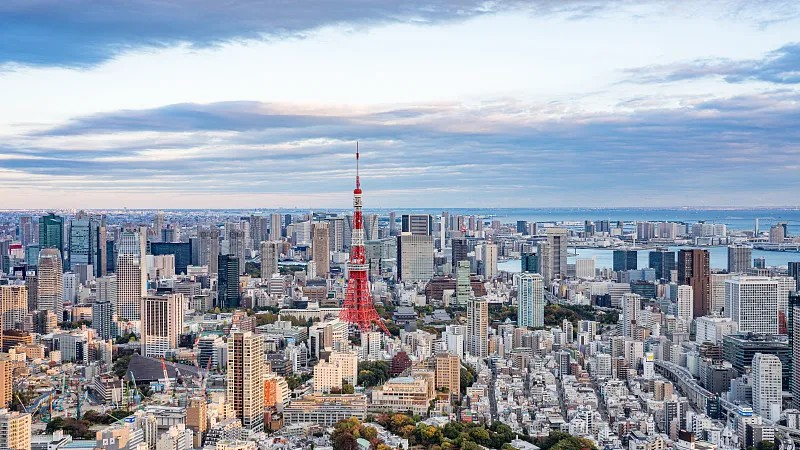Tokyo: (338, 136, 392, 338)
